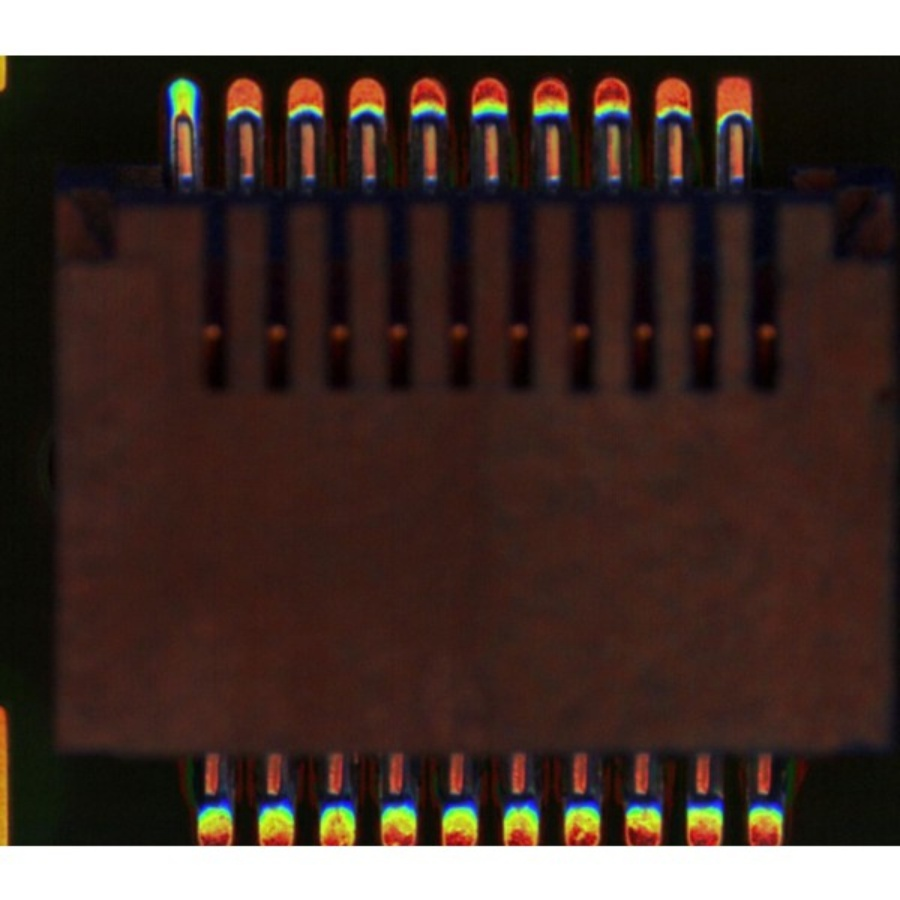Bad_qiaojiao: (168, 120, 176, 178), (191, 124, 199, 174)
